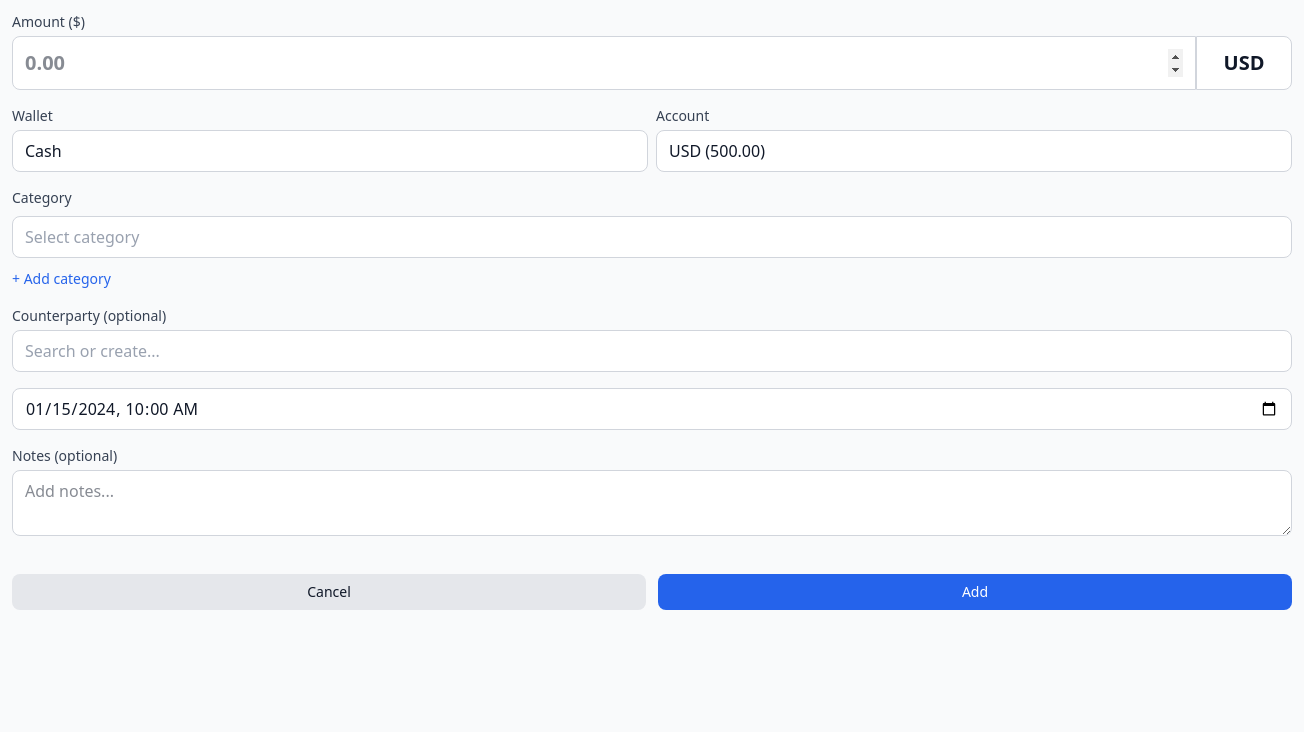
Scenario: ExpenseTransactionForm › shows expense tags in category dropdown
Focus the dropdown with placeholder "Select category" at (652, 237), box [12,216,1292,258]
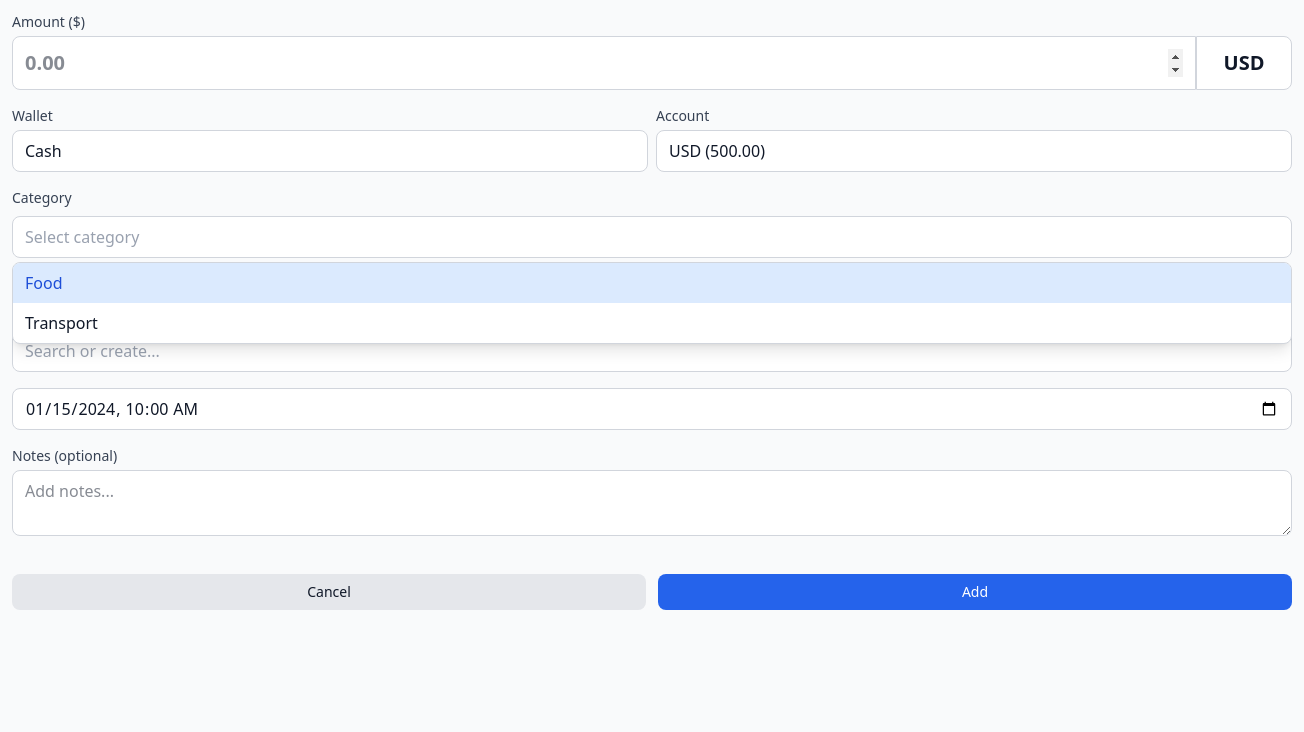
Expected: the option "Food" is shown, [13,263,1291,303]
Expected: the option "Transport" is shown, [25,312,98,334]
